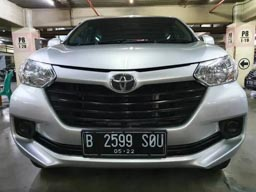plat: (82, 130, 164, 148)
